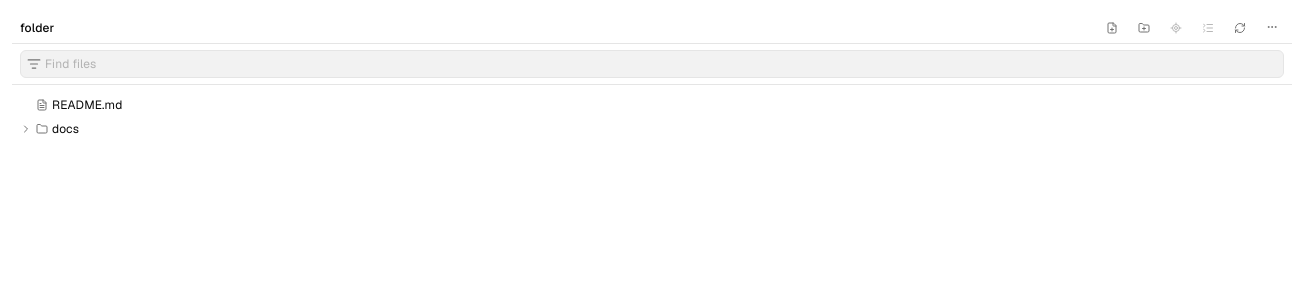
Test case: create (#163) › creates a file inside a nested folder
Step 1. Right-click the button "docs" → (26, 129), box [12, 117, 1292, 141]
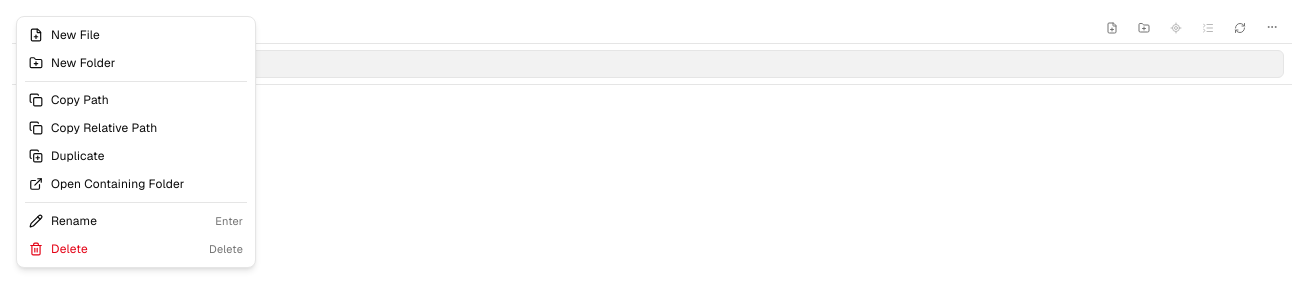
Step 2. Click the menu item "New File" → click(136, 35), box [21, 21, 251, 49]
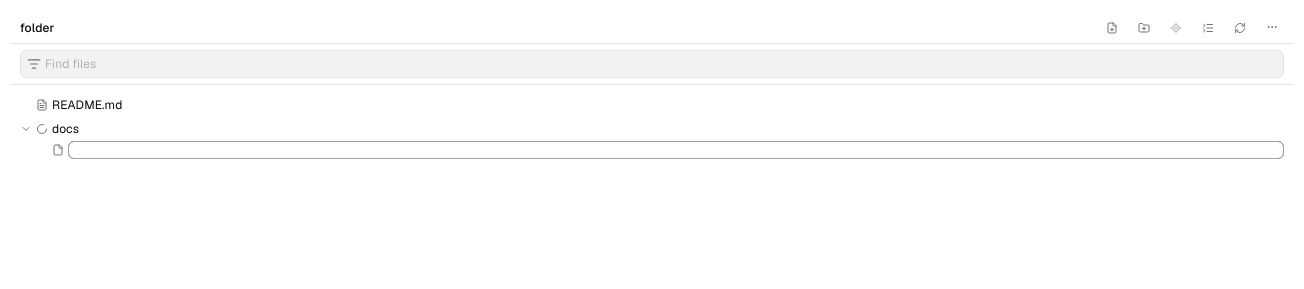
Step 3. Type "guide.md" into the field named "New file name" → (676, 150), box [68, 141, 1284, 159]
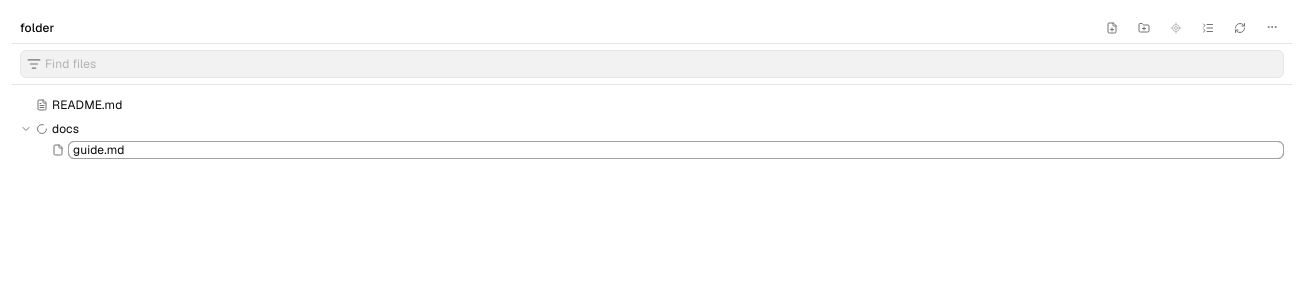
Step 4. Press Enter in the field named "New file name", box [68, 141, 1284, 159]
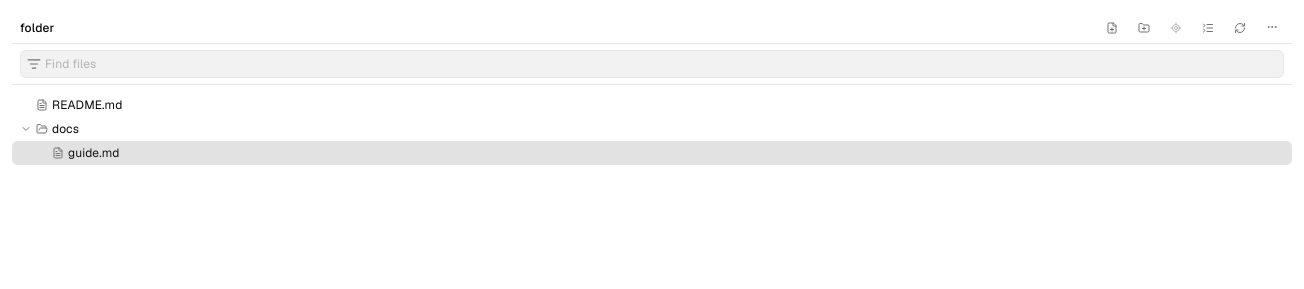
Check: the button "guide.md" is shown, box [12, 141, 1292, 165]
